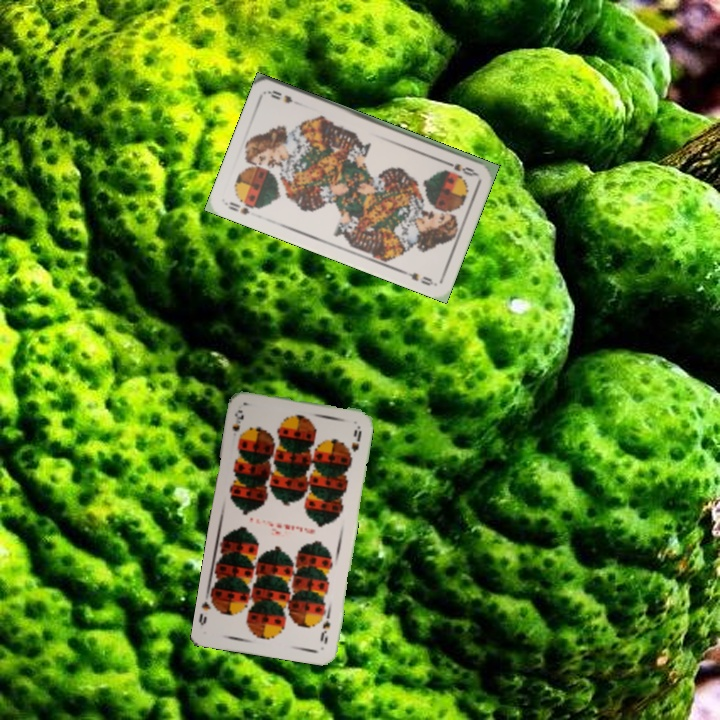S9: (228, 406, 246, 445), (316, 616, 333, 647)
SO: (440, 157, 479, 179), (222, 198, 256, 217)
